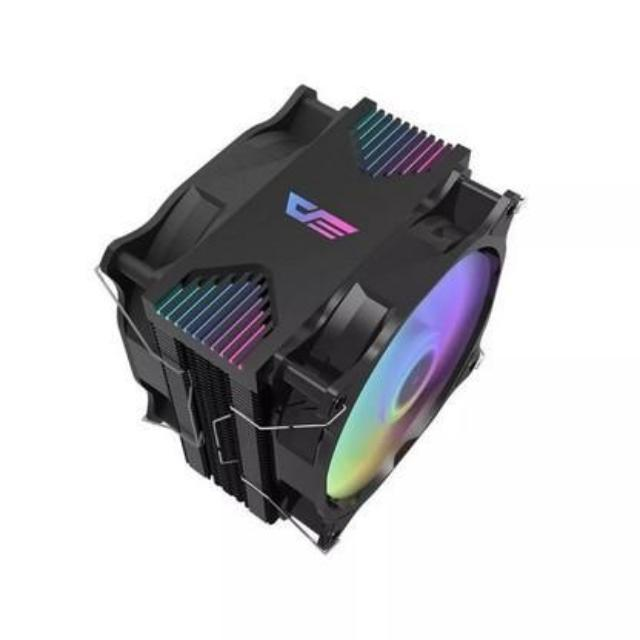CPU_Fan: (99, 79, 524, 562)
